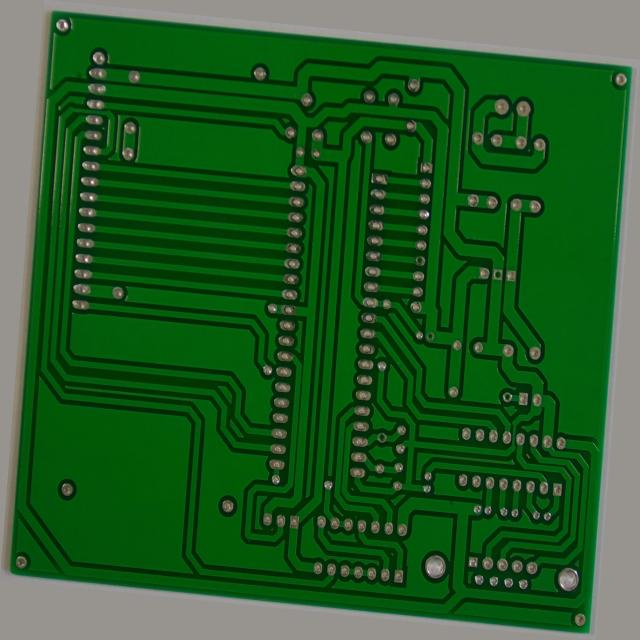missing_hole: (498, 241, 513, 259), (518, 375, 533, 393), (387, 434, 403, 450), (415, 236, 430, 252), (433, 318, 447, 334)
